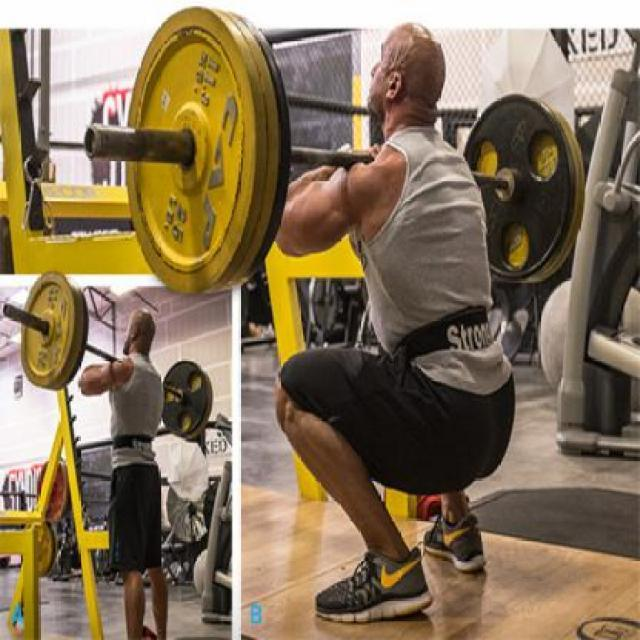Barbell: (82, 120, 100, 162), (0, 300, 12, 322)
